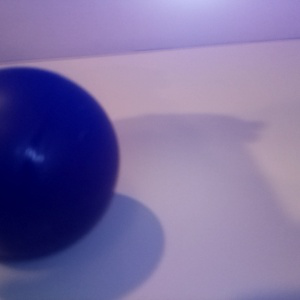dead_ball: (1, 65, 118, 257)
